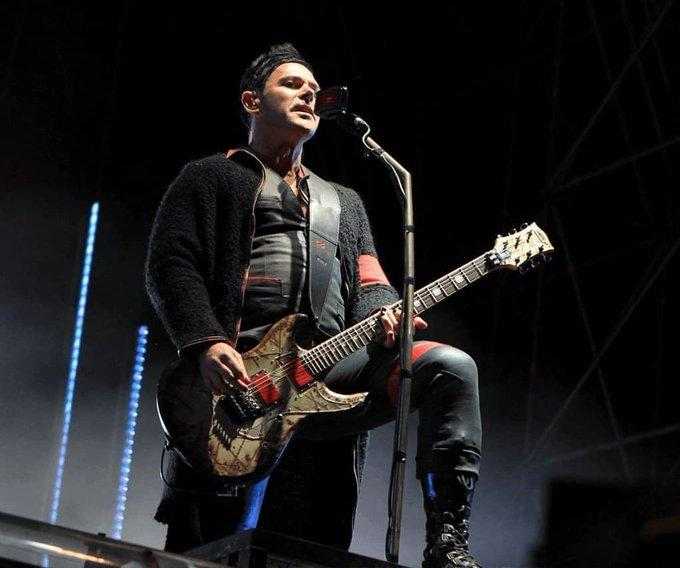acousticguitar: (154, 218, 559, 498)
